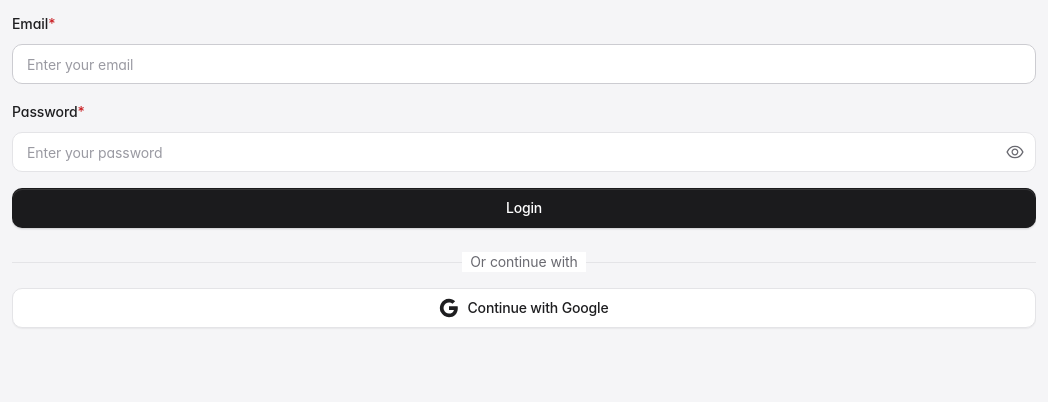
Scenario: tenant authentication forms › validates an empty login when the primary action is clicked
The image size is (1048, 402).
Click the button "Login": click(524, 208) 12,188 -> 1036,228
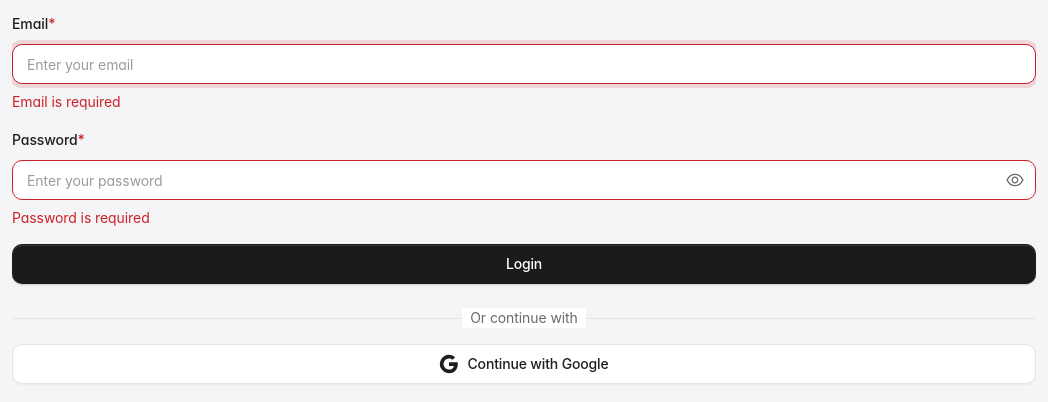
expect the text "Email is required" is shown: met, box 12,93 -> 120,110
